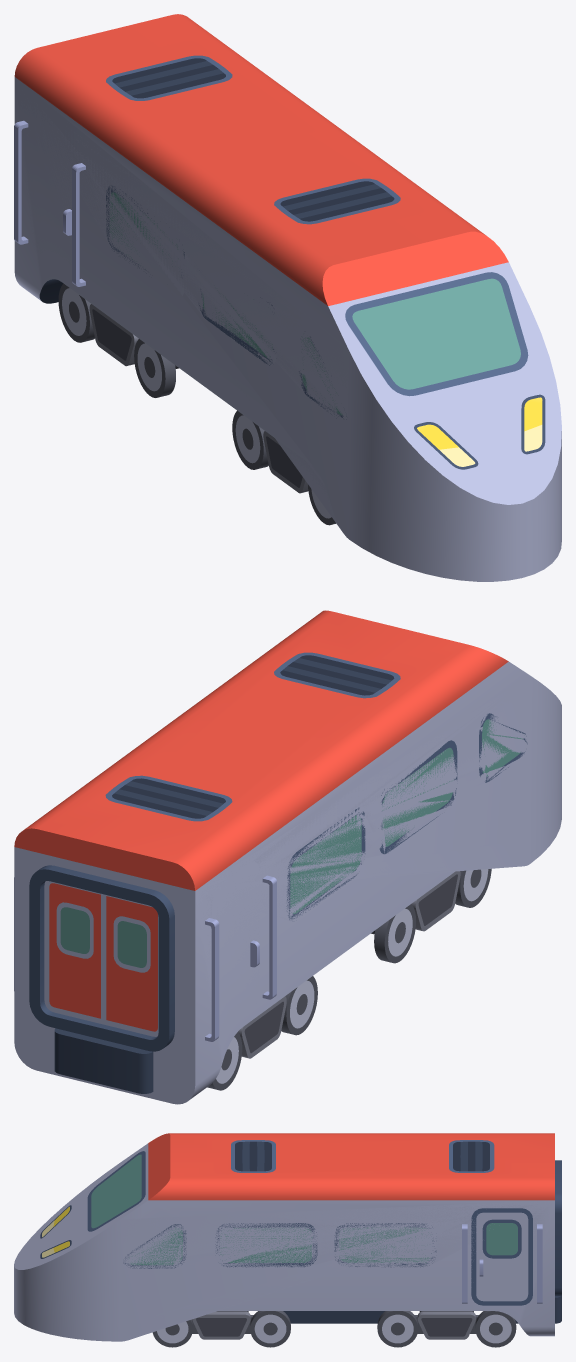
Rendered from Lokomotive C.fbx.
3 views of the same model, one above another, from view 1: azimuth 30°, elevation 25°; view 2: azimuth 150°, elevation 25°; view 3: azimuth 270°, elevation 25° (orthographic). The views are drawn at different scales.
Visible parts, largest first — view 1: Lokomotive C, Lokomotive C Wheel.004, Lokomotive C Wheel, Lokomotive C Wheel.003, Lokomotive C Wheel.005, Lokomotive C Wheel.002; view 2: Lokomotive C, Lokomotive C Wheel.003, Lokomotive C Wheel, Lokomotive C Wheel.002, Lokomotive C Wheel.004, Lokomotive C Wheel.001, Lokomotive C Wheel.005; view 3: Lokomotive C, Lokomotive C Door, Lokomotive C Wheel, Lokomotive C Wheel.002, Lokomotive C Wheel.004, Lokomotive C Wheel.003, Lokomotive C Wheel.005, Lokomotive C Wheel.001.
Boxes of the visible parts, box(x1,y1,x2,y2) form: Lokomotive C: box(14, 14, 561, 581); Lokomotive C Wheel.004: box(134, 339, 178, 397); Lokomotive C Wheel: box(89, 304, 138, 366); Lokomotive C Wheel.003: box(232, 410, 268, 469); Lokomotive C Wheel.005: box(58, 283, 94, 342); Lokomotive C Wheel.002: box(263, 431, 308, 493); Lokomotive C: box(14, 610, 561, 1104); Lokomotive C Wheel.003: box(371, 904, 415, 963); Lokomotive C Wheel: box(238, 996, 286, 1058); Lokomotive C Wheel.002: box(411, 871, 460, 931); Lokomotive C Wheel.004: box(281, 976, 317, 1035); Lokomotive C Wheel.001: box(455, 868, 491, 907); Lokomotive C Wheel.005: box(207, 1032, 242, 1090); Lokomotive C: box(14, 1133, 561, 1341); Lokomotive C Door: box(471, 1208, 532, 1305); Lokomotive C Wheel: box(415, 1311, 478, 1339); Lokomotive C Wheel.002: box(192, 1311, 253, 1339); Lokomotive C Wheel.004: box(377, 1311, 418, 1347); Lokomotive C Wheel.003: box(250, 1311, 290, 1347); Lokomotive C Wheel.005: box(475, 1311, 516, 1347); Lokomotive C Wheel.001: box(152, 1319, 192, 1347).
Size of the model in its own units: 3.12 by 3.83 by 11.39.
